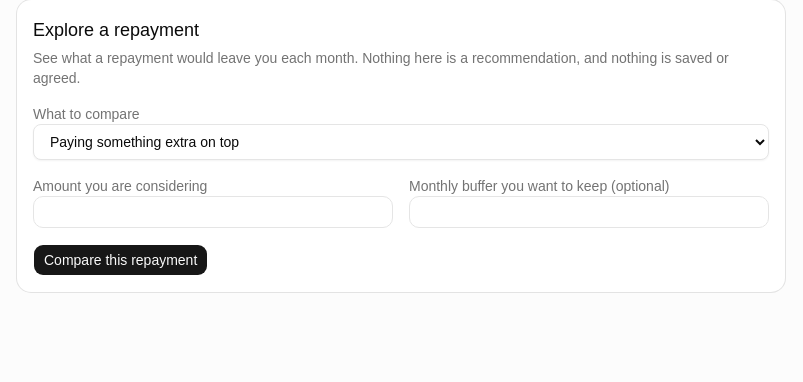
Test: RepaymentExplorer › asks which commitment is being changed only in change-existing mode
Check: the dropdown labelled "repayment to change" is not shown
Step 1. Select "Changing a repayment I already make" in the dropdown labelled "What to compare" → x=401, y=142, box [33,124,769,160]
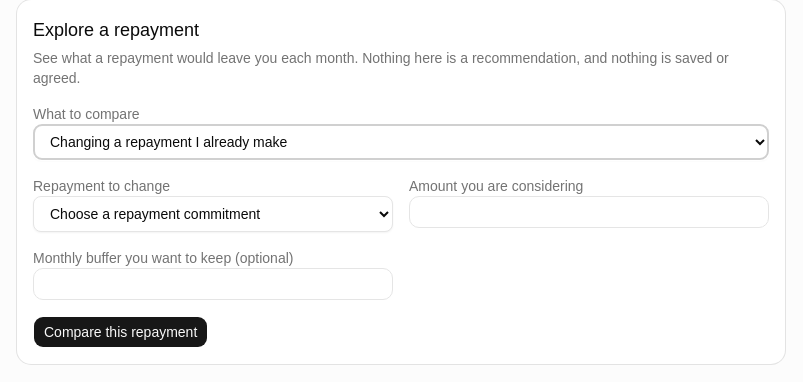
Check: the dropdown labelled "Repayment to change" is shown, box [33,196,393,232]
